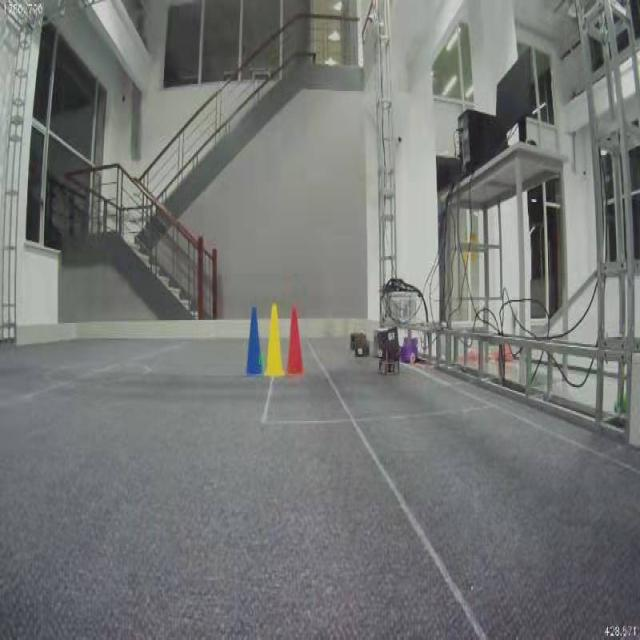cone: (264, 302, 283, 376), (285, 304, 304, 376), (246, 304, 263, 373)
